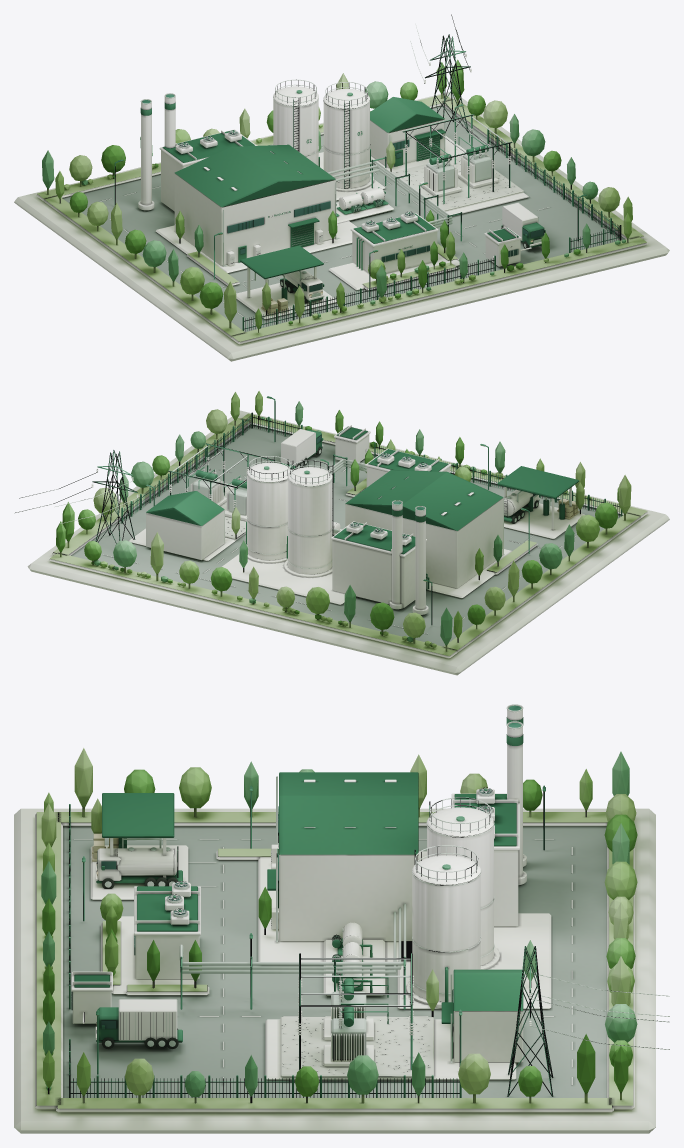
The model's file is campus-baked.glb.
3 renders of one model, top to bottom at view 1: azimuth 30°, elevation 25°; view 2: azimuth 150°, elevation 25°; view 3: azimuth 270°, elevation 25°, orthographic. The views are drawn at different scales.
Parts seen in each view (by area): view 1: Campus_baked; view 2: Campus_baked; view 3: Campus_baked.
Part boxes in pixels (x1,y1,x2,y2): Campus_baked: (14, 14, 669, 361); Campus_baked: (14, 391, 669, 675); Campus_baked: (14, 704, 669, 1133).
Size of the model in its own units: 54.82 by 13.7 by 47.01.
Materials: 1 (1 with a texture image).
